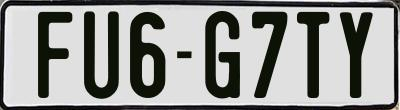6: (129, 9, 167, 100)
7: (249, 10, 284, 96)
F: (35, 11, 72, 99)
G: (203, 11, 243, 99)
T: (296, 10, 331, 98)
U: (82, 10, 119, 98)
Y: (339, 10, 372, 102)
